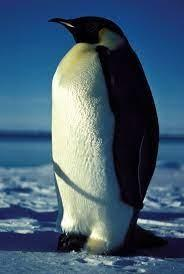emporer: (30, 9, 162, 259)
